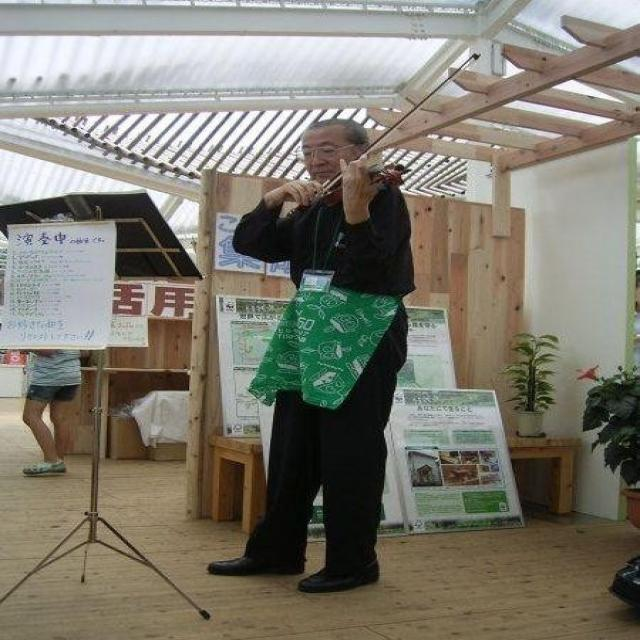violin: (306, 162, 412, 206)
